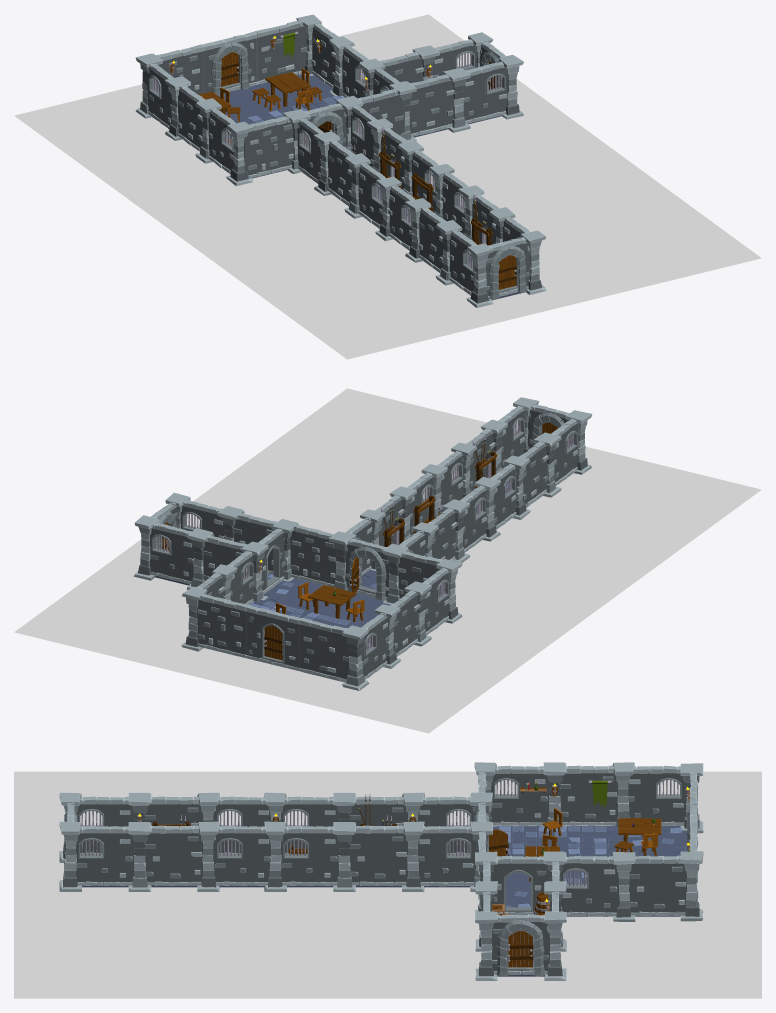
Rendered from DungeonTiles.fbx.
3 renders of one model, top to bottom at view 1: azimuth 30°, elevation 25°; view 2: azimuth 150°, elevation 25°; view 3: azimuth 270°, elevation 25°, orthographic. The views are drawn at different scales.
Parts seen in each view (by area): view 1: Plane.002, Wall 1.004, Wall 2.007, Wall 3.012, Wall 1.002, Wall 4.001, Wall 1.001, Wall 3.002, Wall 2.002, Wall 3.005, Wall 3.001, Wall 3.007 (+36 smaller); view 2: Plane.002, Wall 1.002, Wall 1.001, Wall 4.001, Wall 1.003, Wall 3.013, Wall 3.001, Wall 2.002, Wall 3.002, Wall 2.004, Wall 3.007, Wall 3.005 (+36 smaller); view 3: Plane.002, Wall 2.006, Wall 2.005, Wall 2.003, Wall 3.011, Wall 3.009, Wall 3.008, Wall 3.010, Wall 3.003, Wall 3.002, Wall 2.002, Wall 3.001 (+40 smaller).
Boxes of the visible parts, x1=… form: Plane.002: x1=14, y1=14, x2=761, y2=359; Wall 1.004: x1=244, y1=116, x2=293, y2=178; Wall 2.007: x1=409, y1=74, x2=454, y2=136; Wall 3.012: x1=463, y1=61, x2=507, y2=123; Wall 1.002: x1=254, y1=20, x2=306, y2=84; Wall 4.001: x1=202, y1=31, x2=257, y2=93; Wall 1.001: x1=156, y1=44, x2=204, y2=94; Wall 3.002: x1=208, y1=107, x2=235, y2=174; Wall 2.002: x1=177, y1=84, x2=205, y2=151; Wall 3.005: x1=358, y1=162, x2=385, y2=228; Wall 3.001: x1=147, y1=63, x2=173, y2=129; Wall 3.007: x1=449, y1=229, x2=476, y2=295; Plane.002: x1=14, y1=388, x2=761, y2=733; Wall 1.002: x1=193, y1=593, x2=248, y2=657; Wall 1.001: x1=299, y1=618, x2=349, y2=682; Wall 4.001: x1=246, y1=605, x2=301, y2=670; Wall 1.003: x1=290, y1=524, x2=335, y2=586; Wall 3.013: x1=150, y1=523, x2=194, y2=584; Wall 3.001: x1=361, y1=613, x2=388, y2=679; Wall 2.002: x1=390, y1=590, x2=420, y2=656; Wall 3.002: x1=422, y1=568, x2=449, y2=635; Wall 2.004: x1=519, y1=441, x2=548, y2=506; Wall 3.007: x1=551, y1=418, x2=577, y2=485; Wall 3.005: x1=460, y1=485, x2=486, y2=552; Plane.002: x1=14, y1=771, x2=761, y2=998; Wall 2.006: x1=145, y1=825, x2=203, y2=885; Wall 2.005: x1=350, y1=825, x2=408, y2=885; Wall 2.003: x1=629, y1=855, x2=689, y2=915; Wall 3.011: x1=76, y1=825, x2=134, y2=885; Wall 3.009: x1=280, y1=825, x2=339, y2=885; Wall 3.008: x1=418, y1=825, x2=475, y2=886; Wall 3.010: x1=213, y1=825, x2=270, y2=885; Wall 3.003: x1=560, y1=855, x2=619, y2=916; Wall 3.002: x1=491, y1=765, x2=549, y2=825; Wall 2.002: x1=560, y1=765, x2=618, y2=825; Wall 3.001: x1=628, y1=765, x2=686, y2=825.
Size of the model in its own units: 1550 by 219 by 2157.
